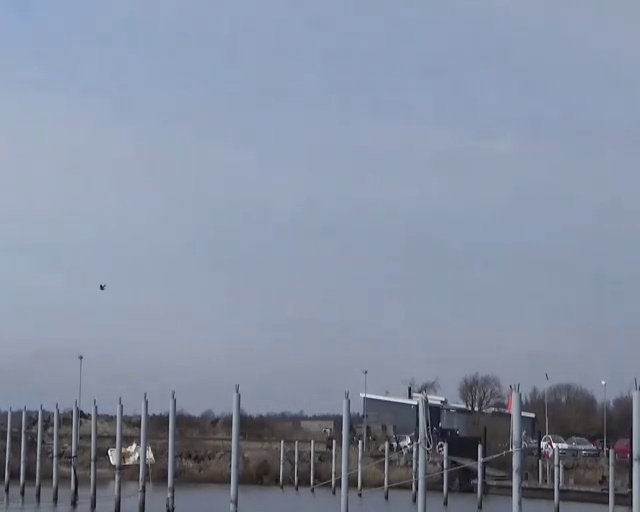BIRD: (99, 282, 107, 291)
